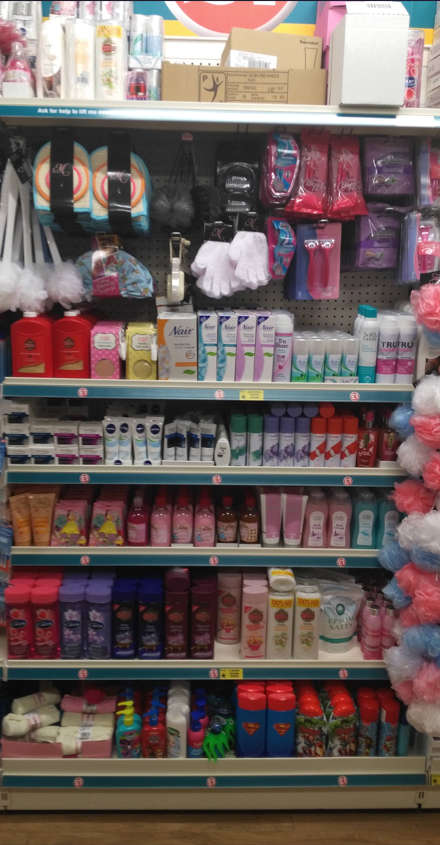Misplacement: (214, 578, 241, 660)
